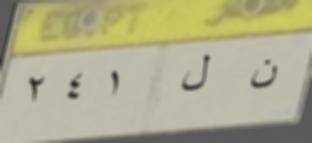1: (102, 61, 125, 98)
2: (26, 65, 48, 103)
4: (58, 66, 85, 105)
laam: (180, 48, 215, 97)
noon: (244, 56, 279, 94)
